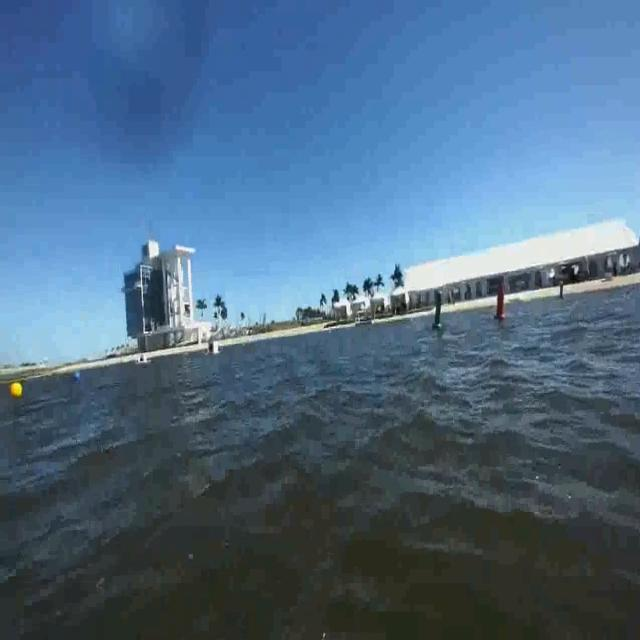green-column-buoy: (431, 290, 444, 332)
red-column-buoy: (493, 278, 508, 320)
yellow-buoy: (9, 382, 22, 401)
